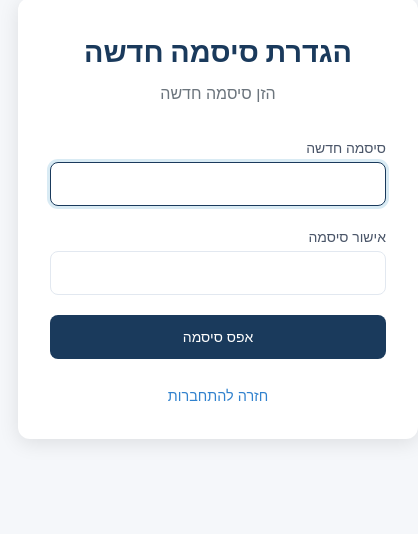
Test case: ResetPassword Page › should show error when passwords do not match
Type "password123" into the password field labelled "סיסמה חדשה".
click(218, 184); type("password123")  # box [50,162,386,206]
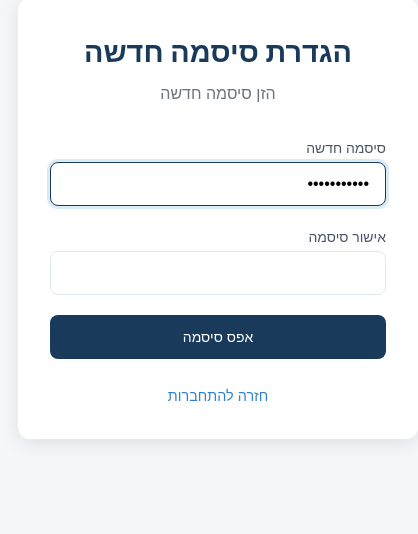
Type "different123" into the password field labelled "אישור סיסמה".
click(218, 273); type("different123")  # box [50,251,386,295]
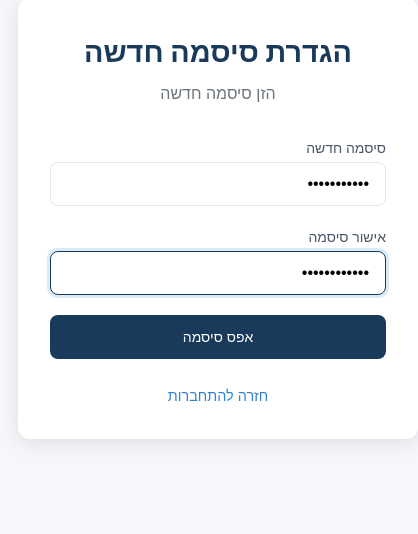
Click the button "אפס סיסמה".
click(218, 337)  # box [50,315,386,359]
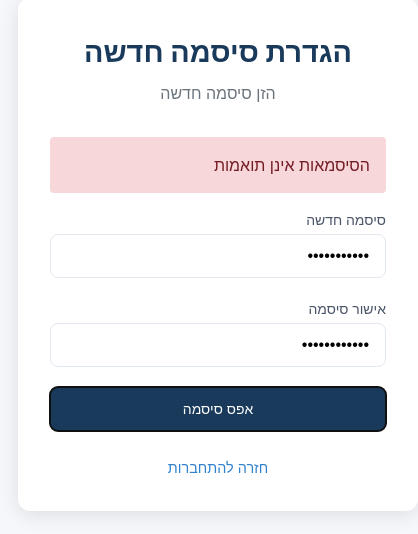
Result: the text "הסיסמאות אינן תואמות" is shown at [50,137,386,193]
